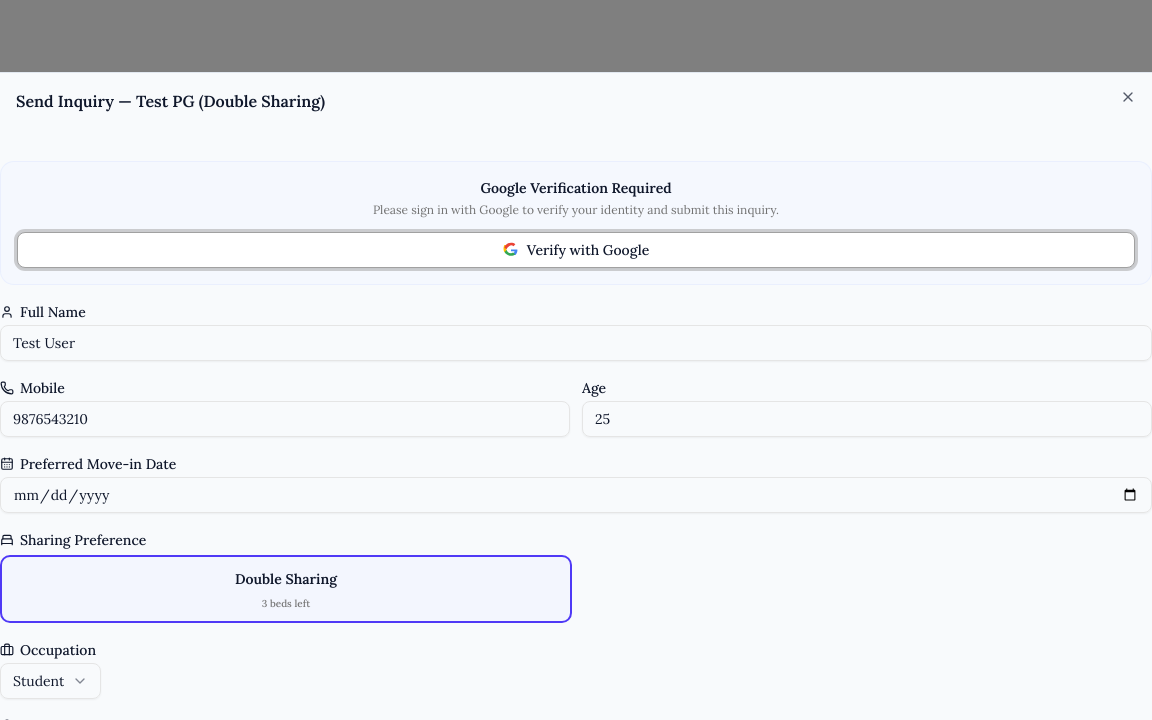
Test case: InquiryModal › shows validation error when full name is empty
Clear pre-filled name
Clear the field with placeholder "Your full name". click: (576, 343)
box: [0, 325, 1151, 361]
(page scrolled)
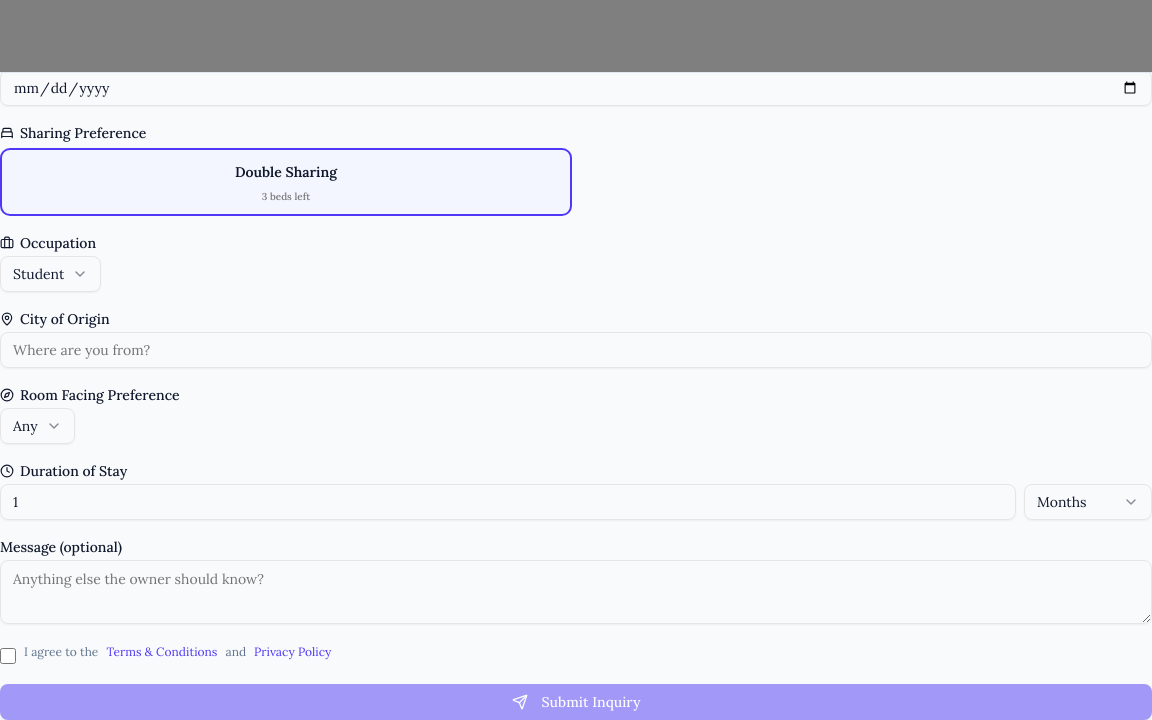
Click the button "Submit Inquiry". click: (576, 702)
box: [0, 684, 1151, 719]
(page scrolled)
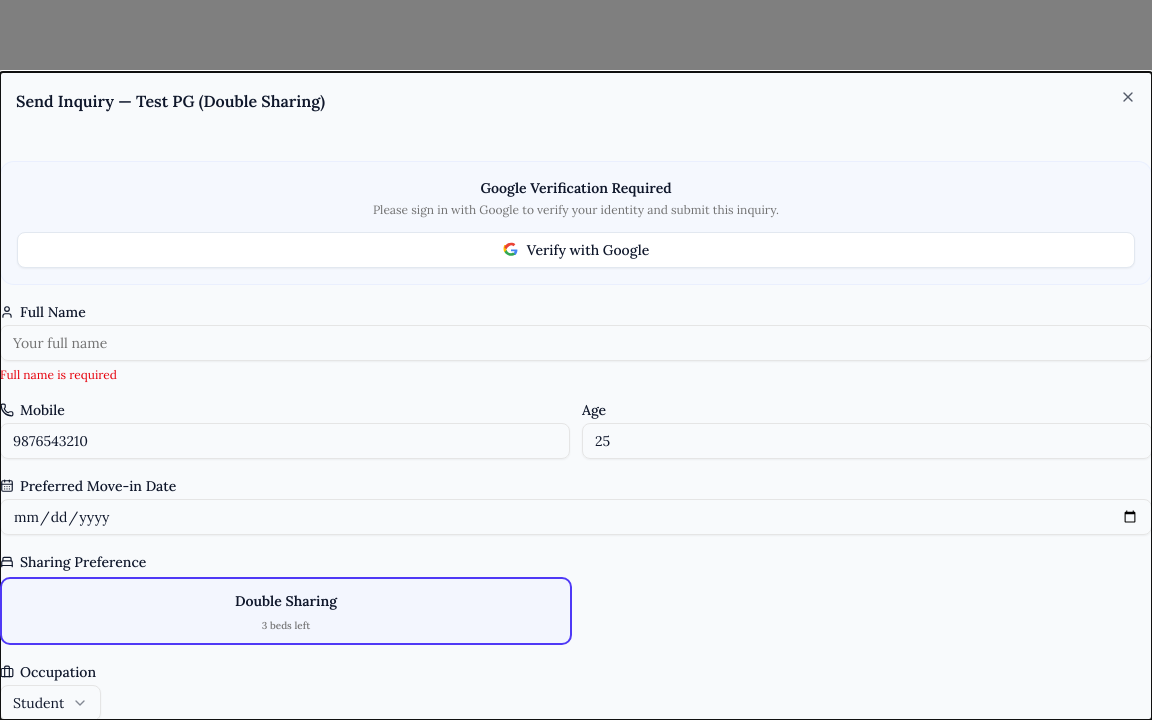
Result: the text "Full name is required" is shown at [0, 367, 117, 382]
